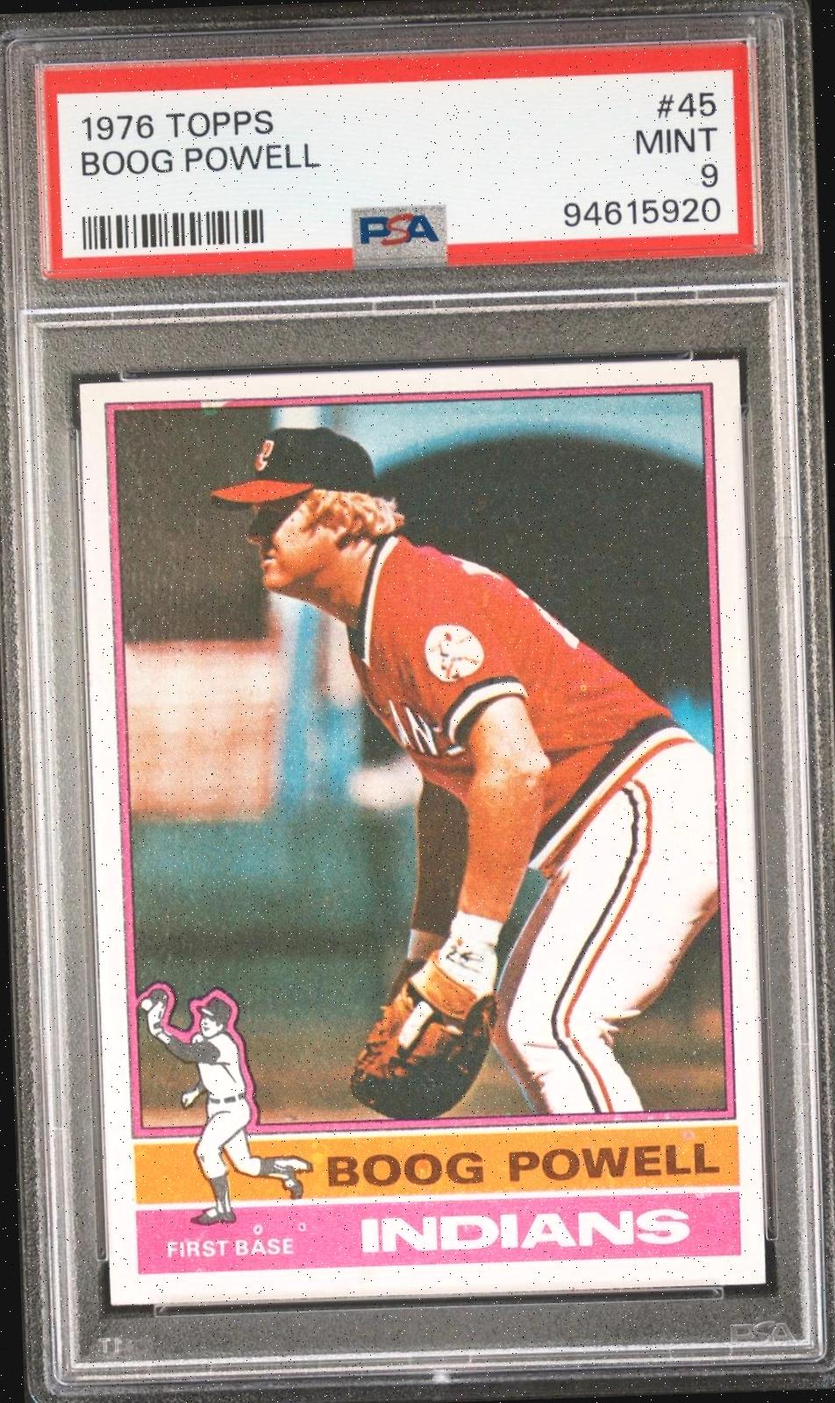card-2UtV: (79, 358, 766, 1307)
